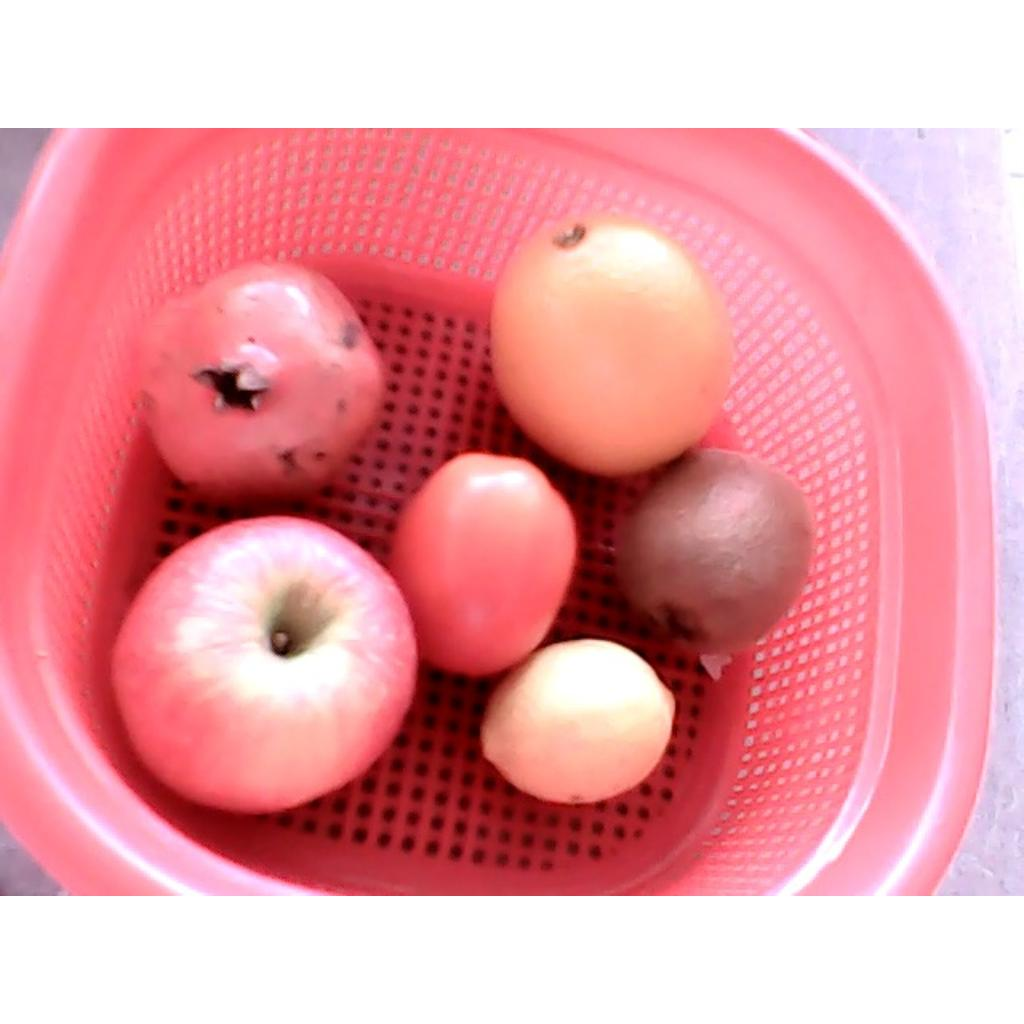apple: (109, 518, 419, 812)
kiwi: (616, 448, 817, 656)
lemon: (483, 640, 677, 803)
orange: (489, 212, 736, 473)
pomegranate: (130, 256, 386, 503)
tomato: (387, 450, 573, 676)
